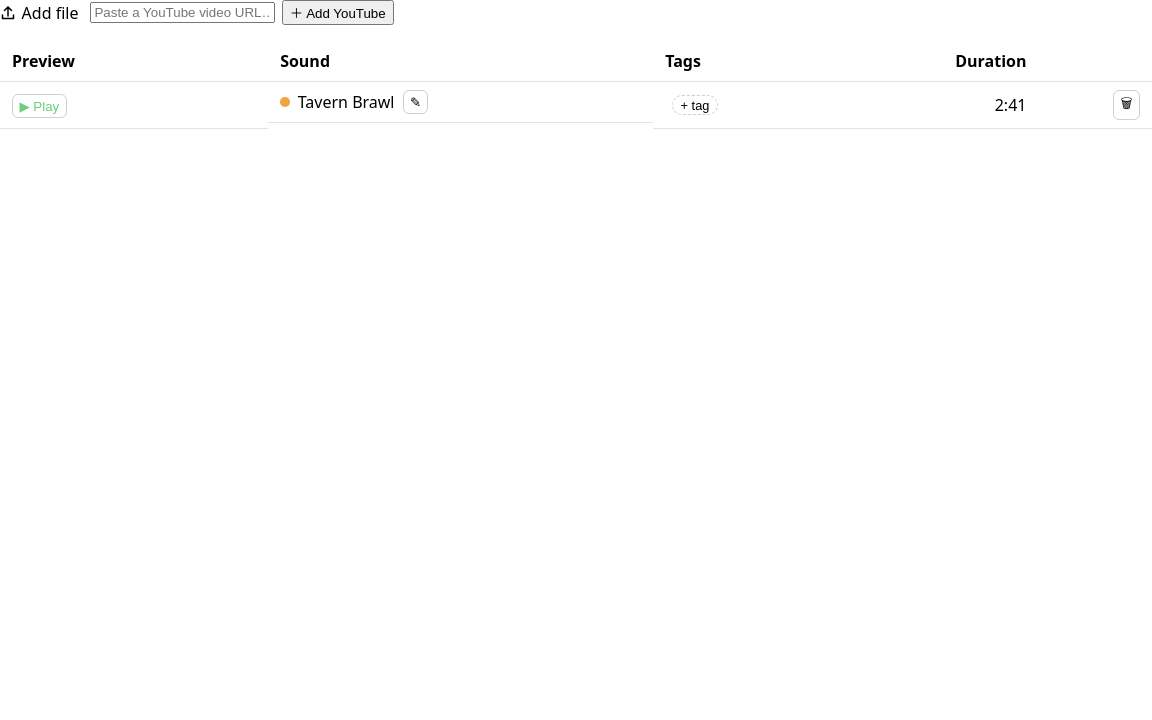
Scenario: deleting a row removes it after confirmation
Check: the text "Tavern Brawl" is shown, box 298,90 -> 394,114
Click the button named "delete" at (1127, 105), box 1113,90 -> 1140,120
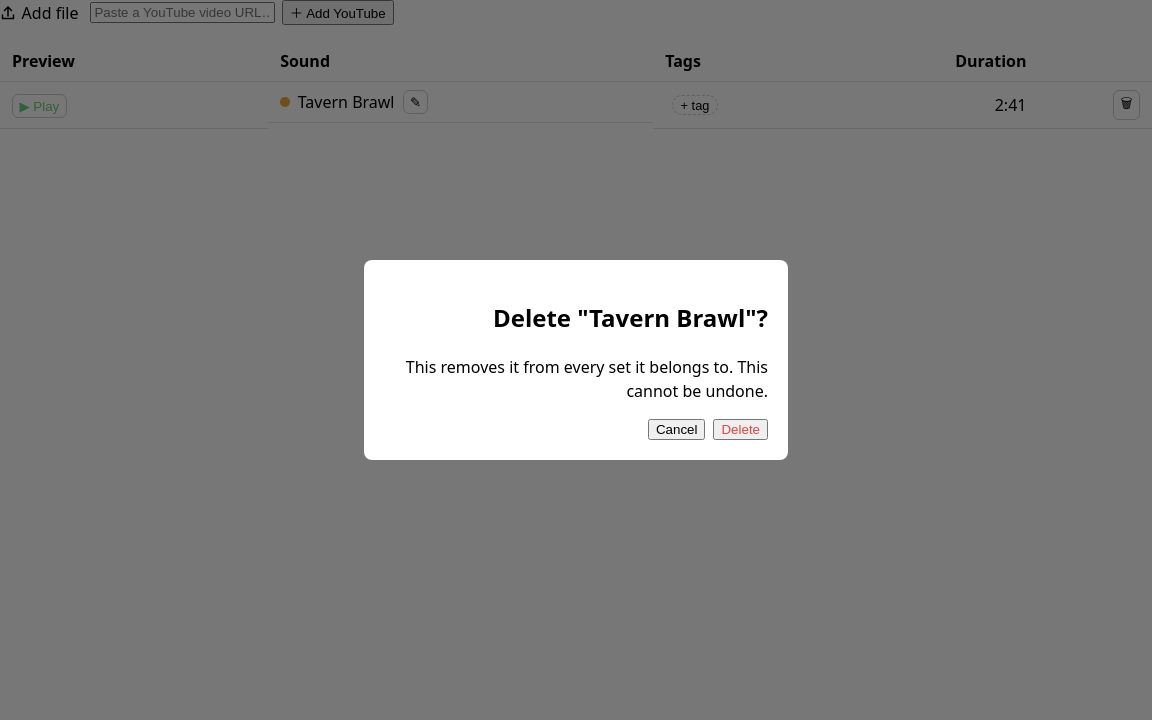
Click the button "Delete" at (741, 430), box 714,419 -> 768,440
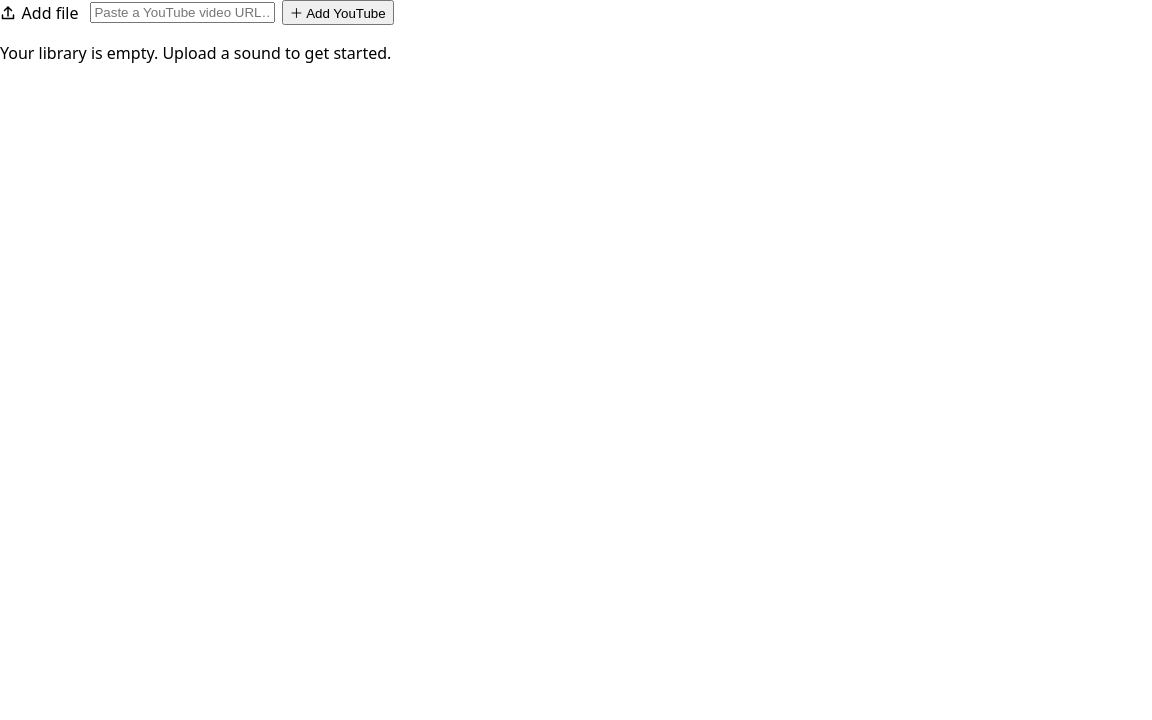
Check: the text "Tavern Brawl" is gone
Check: the text "Your library is empty. Upload a sound to get started." is shown, box 0,42 -> 391,64
